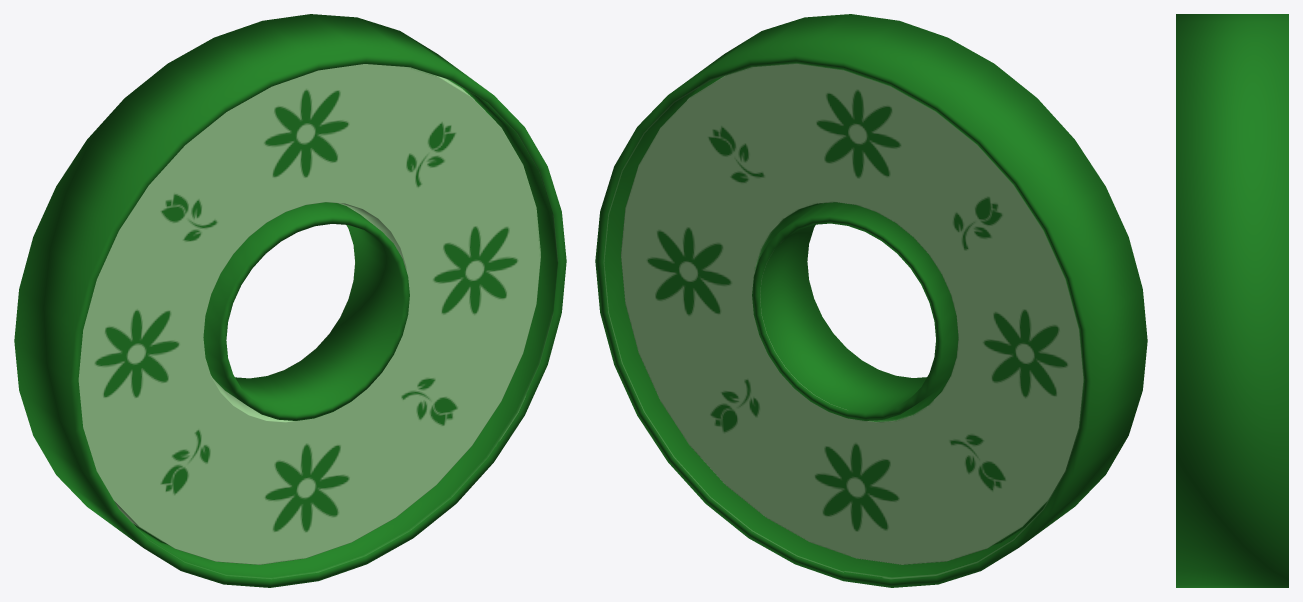
File: ccoin.glb
The picture shows the model from 3 angles, left to right: view 1: azimuth 30°, elevation 25°; view 2: azimuth 150°, elevation 25°; view 3: azimuth 270°, elevation 25°; orthographic projection.
Parts seen in each view (by area): view 1: Coin01; view 2: Coin01; view 3: Coin01.
Boxes of the visible parts, box(x1,y1,x2,y2) form: Coin01: box(14, 14, 566, 587); Coin01: box(595, 14, 1147, 587); Coin01: box(1176, 14, 1288, 587).
Size of the model in its own units: 0.2425 by 0.2425 by 0.0476.
Materials: 1 (1 with a texture image).
